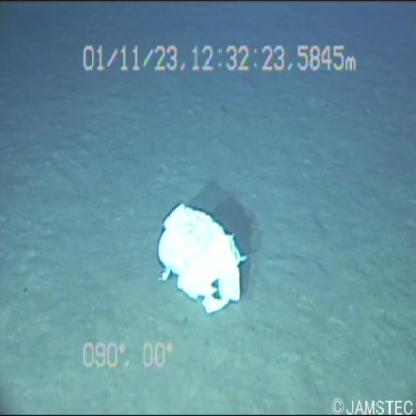Rác: (152, 198, 250, 320)
